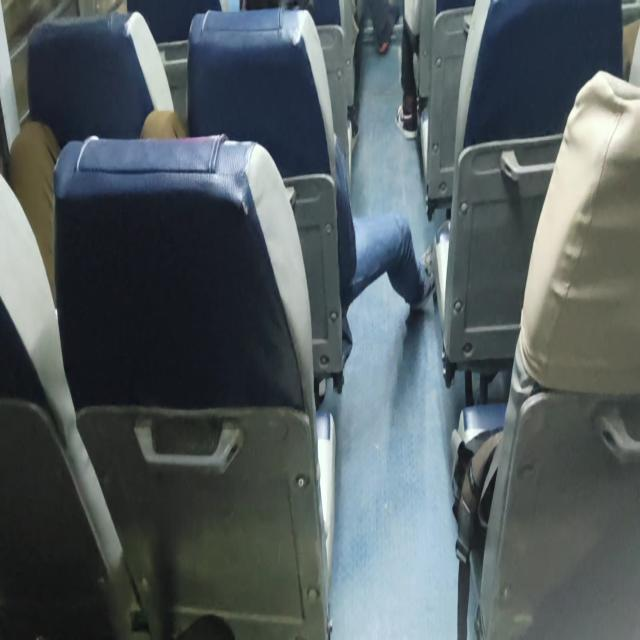person: (240, 0, 316, 47)
